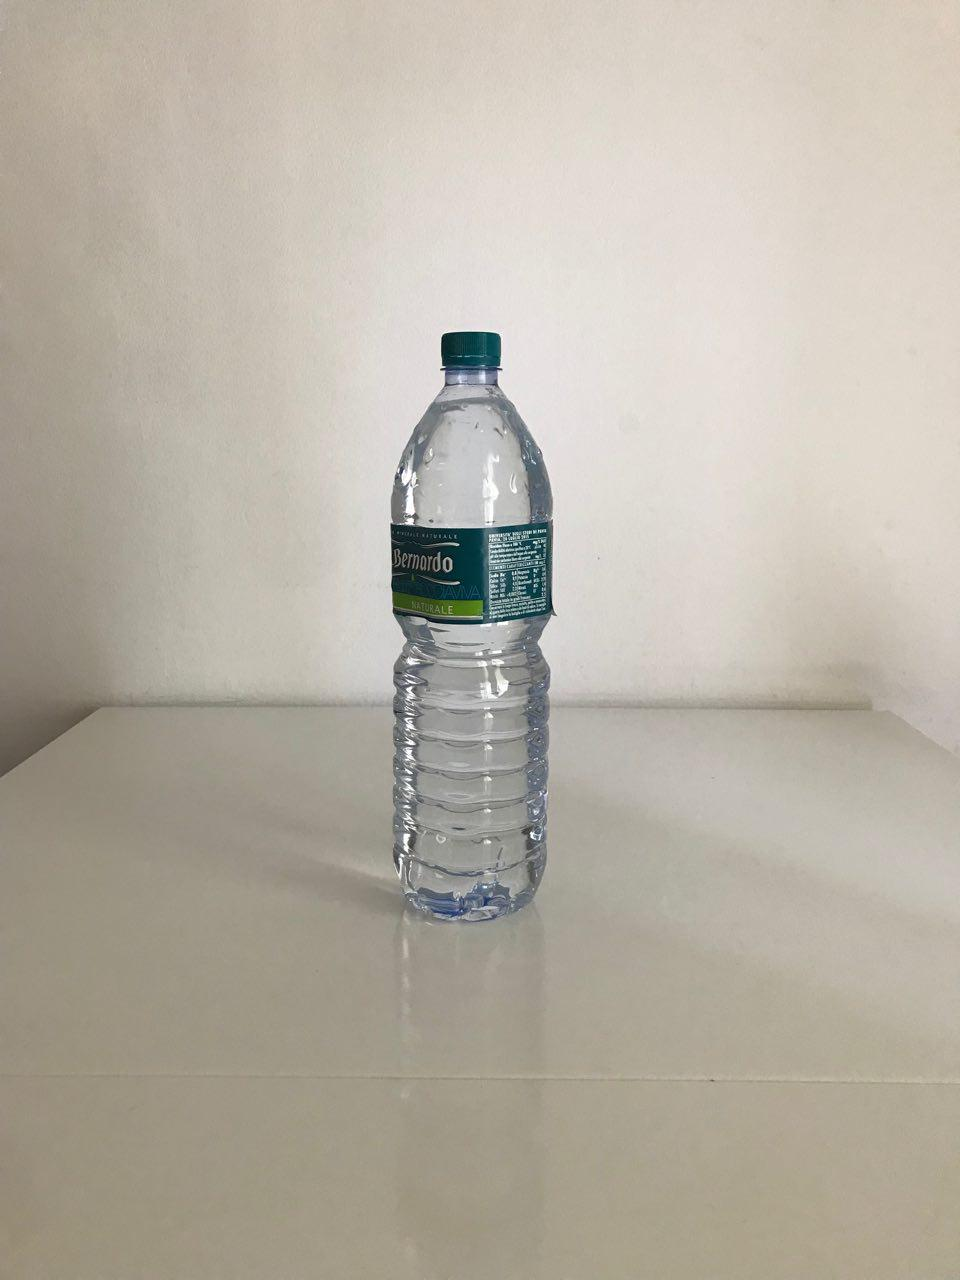san_bernardo: (389, 329, 556, 925)
